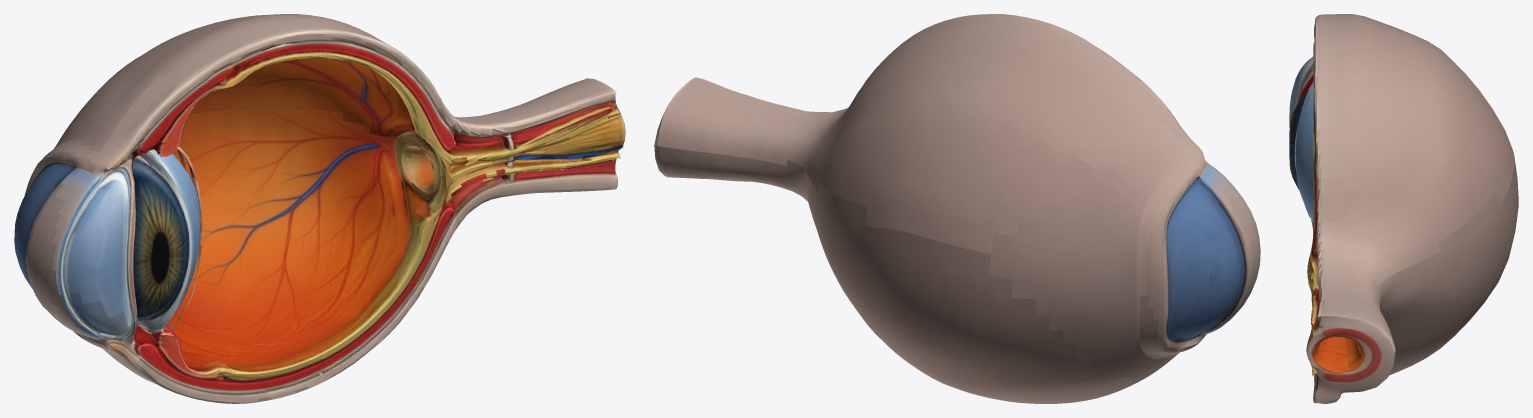
The model's file is Meshy_AI_Anatomy_of_Vision_0917151641_texture.glb.
3 renders of one model, left to right at view 1: azimuth 30°, elevation 25°; view 2: azimuth 150°, elevation 25°; view 3: azimuth 270°, elevation 25°, orthographic. The views are drawn at different scales.
Parts seen in each view (by area): view 1: Mesh0; view 2: Mesh0; view 3: Mesh0.
Boxes of the visible parts, <box> form: Mesh0: <box>14,14,625,403</box>; Mesh0: <box>654,14,1260,403</box>; Mesh0: <box>1289,14,1518,403</box>.
Size of the model in its own units: 1.9 by 1.15 by 0.7065.
Materials: 1 (1 with a texture image).
